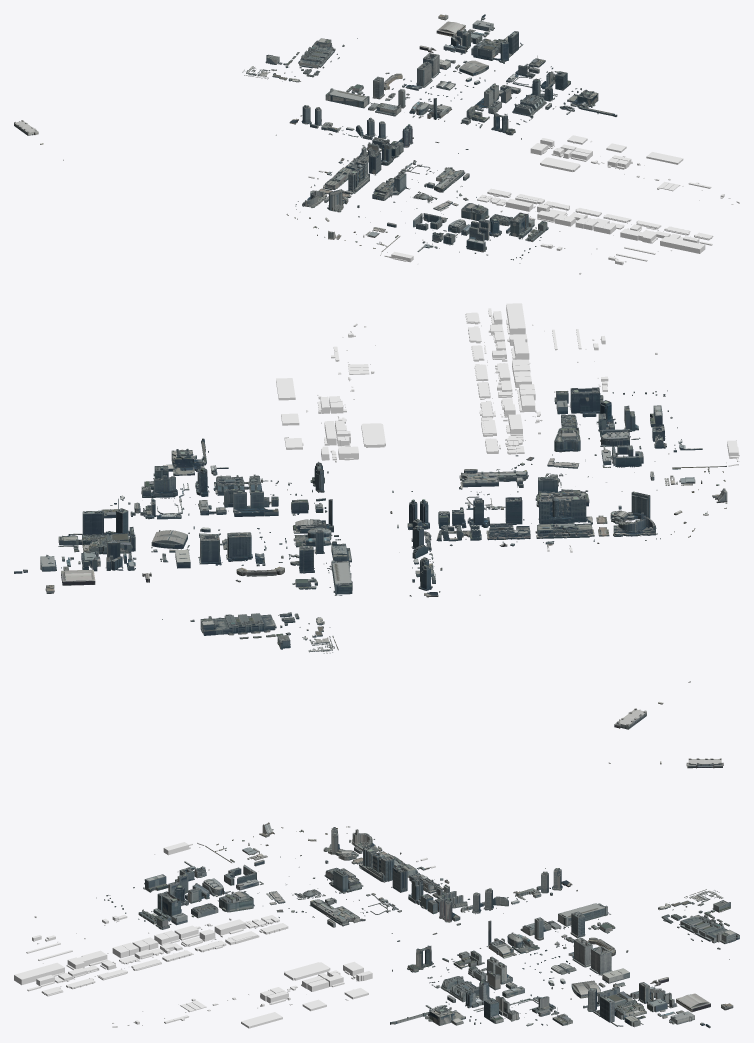
The model's file is tokyo-city-web.glb.
The picture shows the model from 3 angles, top to bottom: view 1: azimuth 30°, elevation 25°; view 2: azimuth 150°, elevation 25°; view 3: azimuth 270°, elevation 25°; orthographic projection. The views are drawn at different scales.
Parts seen in each view (by area): view 1: Tokyo_13108-data167, Tokyo_13108-data191, Tokyo_13108-data169, Tokyo_13108-data188, Tokyo_13108-data179, Tokyo_13108-data193, Tokyo_13108-data180, Tokyo_13108-data189, Tokyo_13108-data186, Tokyo_13108-data178, Tokyo_13108-data187, Tokyo_13108-data181 (+4 smaller); view 2: Tokyo_13108-data167, Tokyo_13108-data191, Tokyo_13108-data179, Tokyo_13108-data169, Tokyo_13108-data188, Tokyo_13108-data180, Tokyo_13108-data193, Tokyo_13103-data439, Tokyo_13108-data178, Tokyo_13108-data189, Tokyo_13108-data186, Tokyo_13108-data181 (+6 smaller); view 3: Tokyo_13108-data167, Tokyo_13108-data191, Tokyo_13108-data188, Tokyo_13108-data169, Tokyo_13108-data179, Tokyo_13108-data189, Tokyo_13108-data193, Tokyo_13108-data180, Tokyo_13108-data178, Tokyo_13108-data187, Tokyo_13108-data186, Tokyo_13108-data181 (+8 smaller).
Boxes of the visible parts, x1=… form: Tokyo_13108-data167: x1=436, y1=14, x2=545, y2=76; Tokyo_13108-data191: x1=372, y1=164, x2=489, y2=234; Tokyo_13108-data169: x1=500, y1=65, x2=617, y2=116; Tokyo_13108-data188: x1=575, y1=208, x2=712, y2=254; Tokyo_13108-data179: x1=289, y1=38, x2=409, y2=108; Tokyo_13108-data193: x1=443, y1=212, x2=536, y2=263; Tokyo_13108-data180: x1=428, y1=79, x2=534, y2=139; Tokyo_13108-data189: x1=527, y1=203, x2=647, y2=274; Tokyo_13108-data186: x1=530, y1=138, x2=600, y2=171; Tokyo_13108-data178: x1=357, y1=38, x2=480, y2=93; Tokyo_13108-data187: x1=437, y1=167, x2=569, y2=213; Tokyo_13108-data181: x1=368, y1=89, x2=468, y2=153; Tokyo_13108-data167: x1=14, y1=498, x2=187, y2=593; Tokyo_13108-data191: x1=461, y1=426, x2=641, y2=509; Tokyo_13108-data179: x1=190, y1=546, x2=352, y2=639; Tokyo_13108-data169: x1=110, y1=438, x2=249, y2=519; Tokyo_13108-data188: x1=468, y1=303, x2=557, y2=399; Tokyo_13108-data180: x1=193, y1=461, x2=328, y2=548; Tokyo_13108-data193: x1=561, y1=387, x2=672, y2=441; Tokyo_13103-data439: x1=535, y1=495, x2=594, y2=541; Tokyo_13108-data178: x1=142, y1=532, x2=266, y2=619; Tokyo_13108-data189: x1=492, y1=329, x2=657, y2=421; Tokyo_13108-data186: x1=321, y1=417, x2=385, y2=462; Tokyo_13108-data181: x1=286, y1=490, x2=412, y2=566; Tokyo_13108-data167: x1=552, y1=980, x2=733, y2=1028; Tokyo_13108-data191: x1=202, y1=867, x2=388, y2=925; Tokyo_13108-data188: x1=14, y1=945, x2=193, y2=992; Tokyo_13108-data169: x1=390, y1=980, x2=559, y2=1026; Tokyo_13108-data179: x1=554, y1=903, x2=739, y2=956; Tokyo_13108-data189: x1=26, y1=909, x2=215, y2=955; Tokyo_13108-data193: x1=96, y1=867, x2=218, y2=921; Tokyo_13108-data180: x1=392, y1=945, x2=556, y2=991; Tokyo_13108-data178: x1=551, y1=938, x2=729, y2=989; Tokyo_13108-data187: x1=195, y1=915, x2=365, y2=952; Tokyo_13108-data186: x1=284, y1=961, x2=372, y2=991; Tokyo_13108-data181: x1=391, y1=917, x2=561, y2=957.
Bounding box in the file's own units: 3233 × 148 × 3727.
42 materials, 41 textured.
